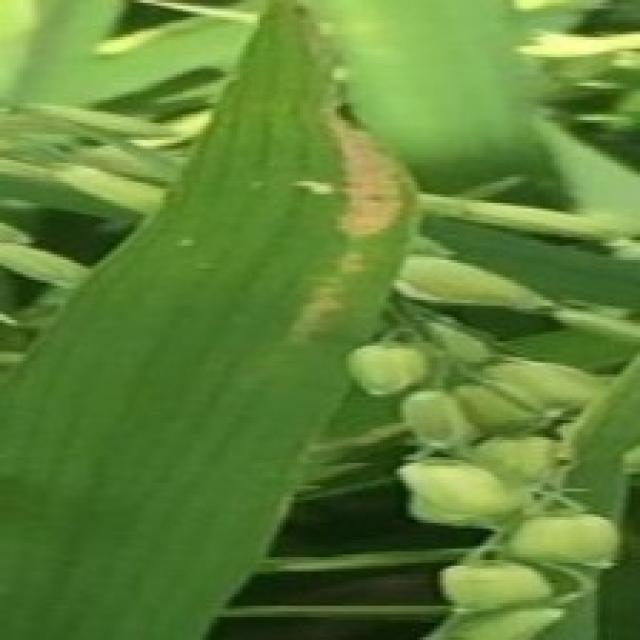Rice___Bacterial_Leaf_Blight: (0, 0, 425, 637)
